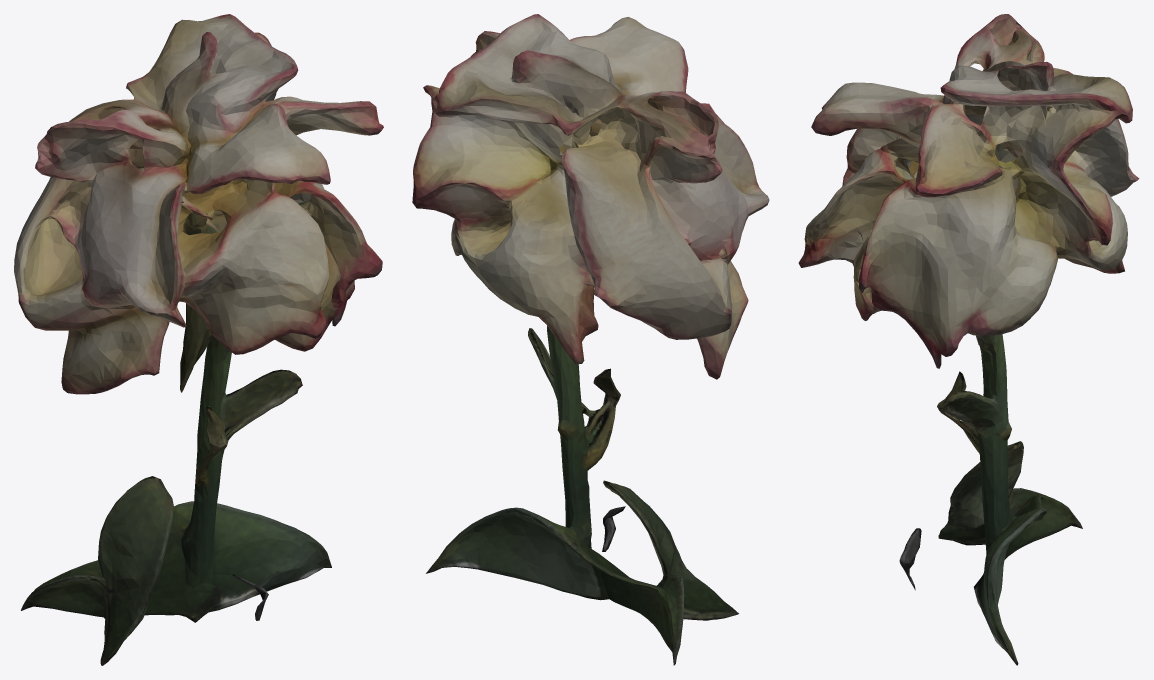
3 renders of one model, left to right at view 1: azimuth 30°, elevation 25°; view 2: azimuth 150°, elevation 25°; view 3: azimuth 270°, elevation 25°, orthographic.
Parts seen in each view (by area): view 1: world; view 2: world; view 3: world.
Part boxes in pixels (bbox=[...]): world: bbox=[14, 14, 383, 665]; world: bbox=[412, 14, 769, 665]; world: bbox=[798, 14, 1139, 665].
Size of the model in its own units: 0.5827 by 0.9955 by 0.5548.
1 material, 1 textured.
